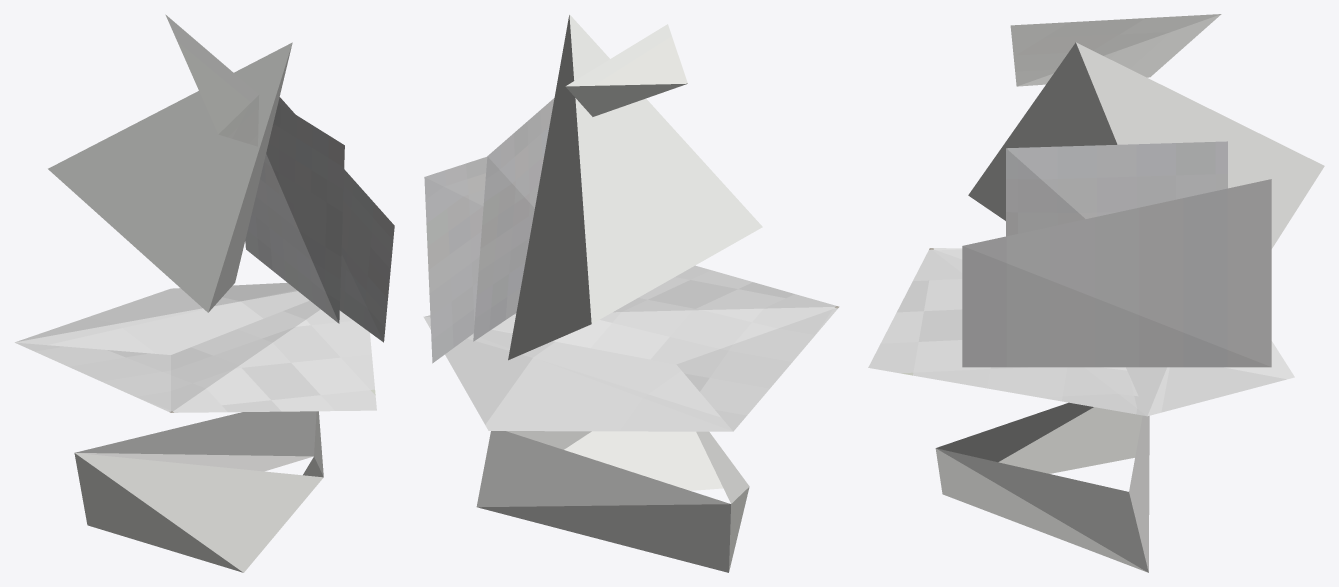
File: wzkg005-geode.glb
The picture shows the model from 3 angles, left to right: view 1: azimuth 30°, elevation 25°; view 2: azimuth 150°, elevation 25°; view 3: azimuth 270°, elevation 25°; orthographic projection. The views are drawn at different scales.
Visible parts, largest first — view 1: Node; view 2: Node; view 3: Node.
Part boxes in pixels (bbox=[...]): Node: bbox=[14, 14, 394, 572]; Node: bbox=[423, 14, 839, 572]; Node: bbox=[868, 14, 1324, 572].
Bounding box in the file's own units: 0.2298 × 0.3151 × 0.2552.
1 material, 1 textured.
